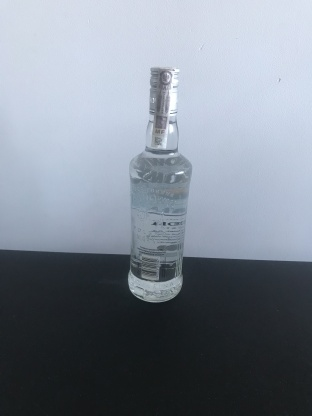nakretka: (147, 63, 182, 117)
